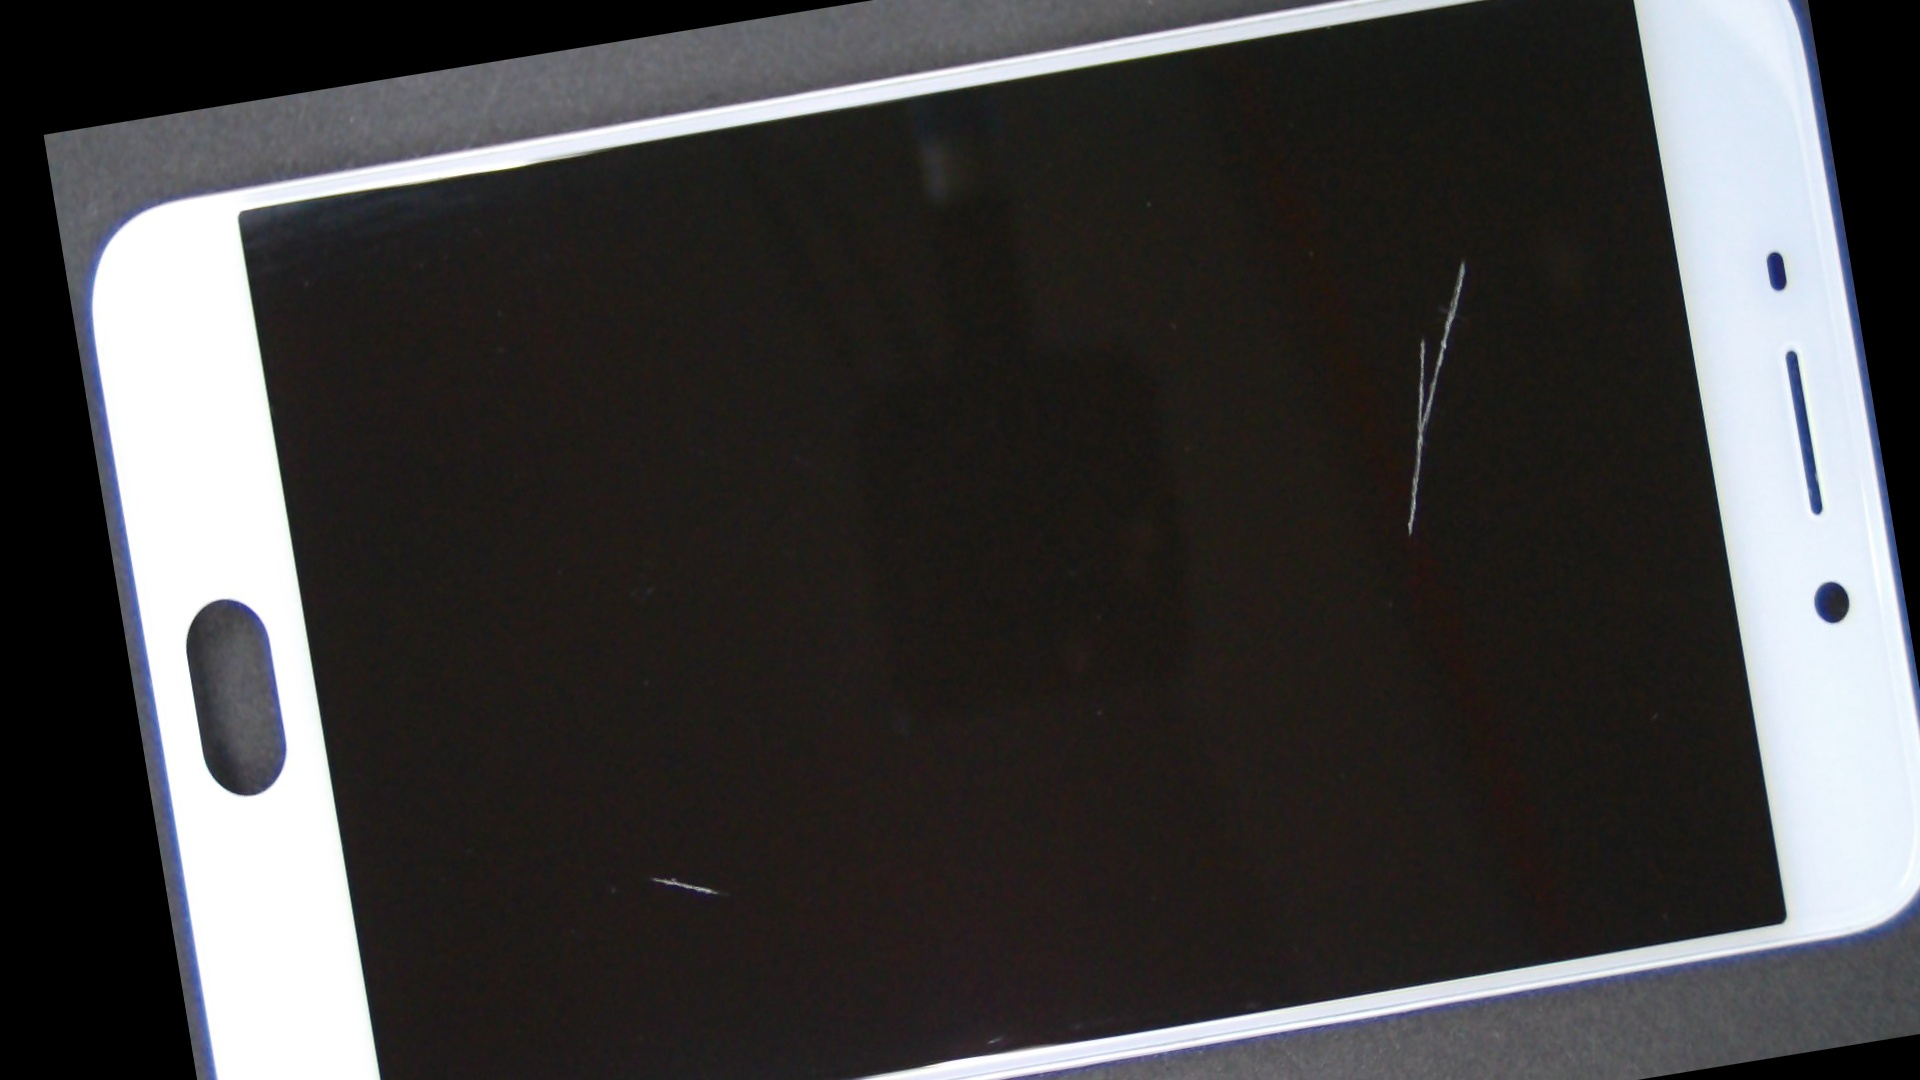oil: (754, 25, 1869, 545), (348, 429, 947, 1080)
